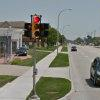Traffic light: (18, 10, 54, 47)
